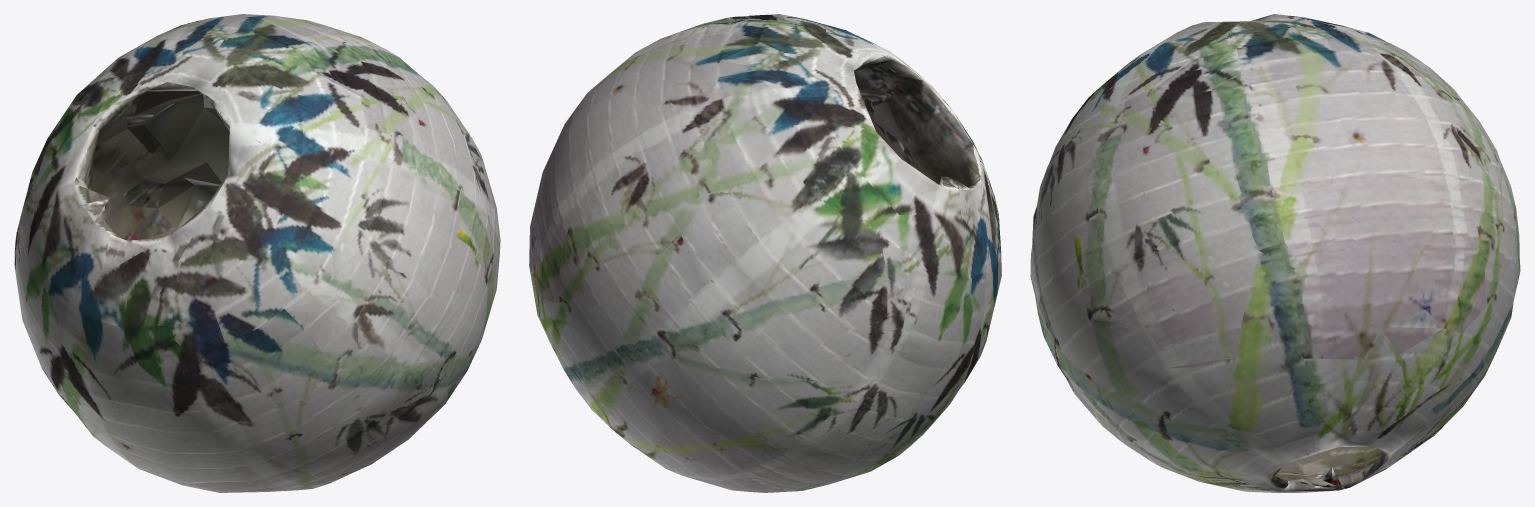
Rendered from AS3 Jolex Ciara Jax Bamboo.glb.
3 views of the same model, side by side, from view 1: azimuth 30°, elevation 25°; view 2: azimuth 150°, elevation 25°; view 3: azimuth 270°, elevation 25° (orthographic). The views are drawn at different scales.
Bounding box in the file's own units: 994 × 982 × 1000.
1 material, 1 textured.
